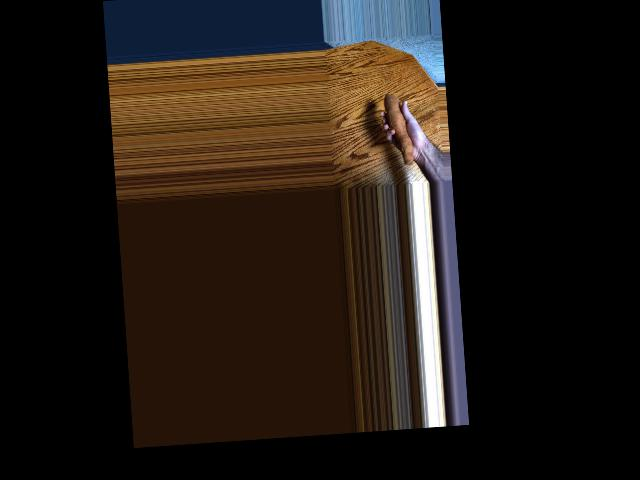sweet_potato: (383, 90, 415, 164)
